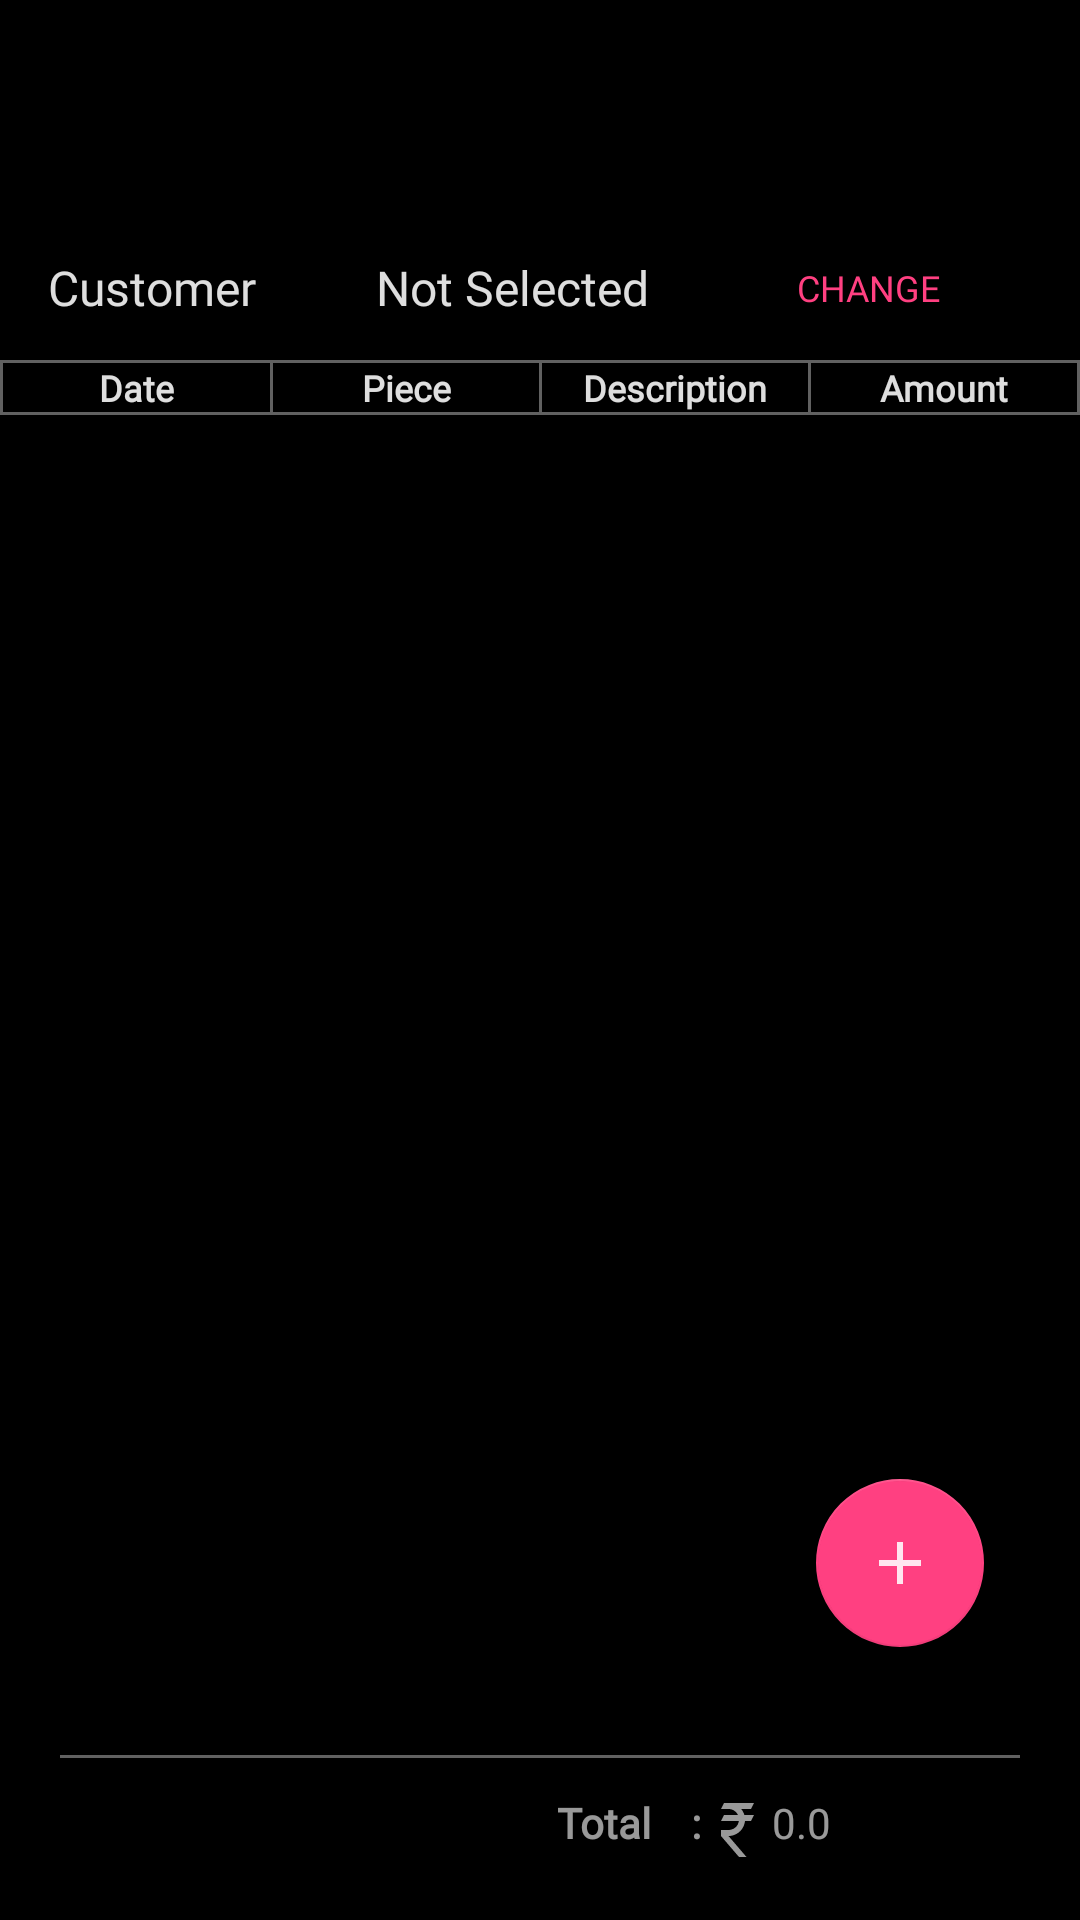

Icon click points for this 1080px x 1920px phone screenshot, format (x,y):
add: (900,1563)
